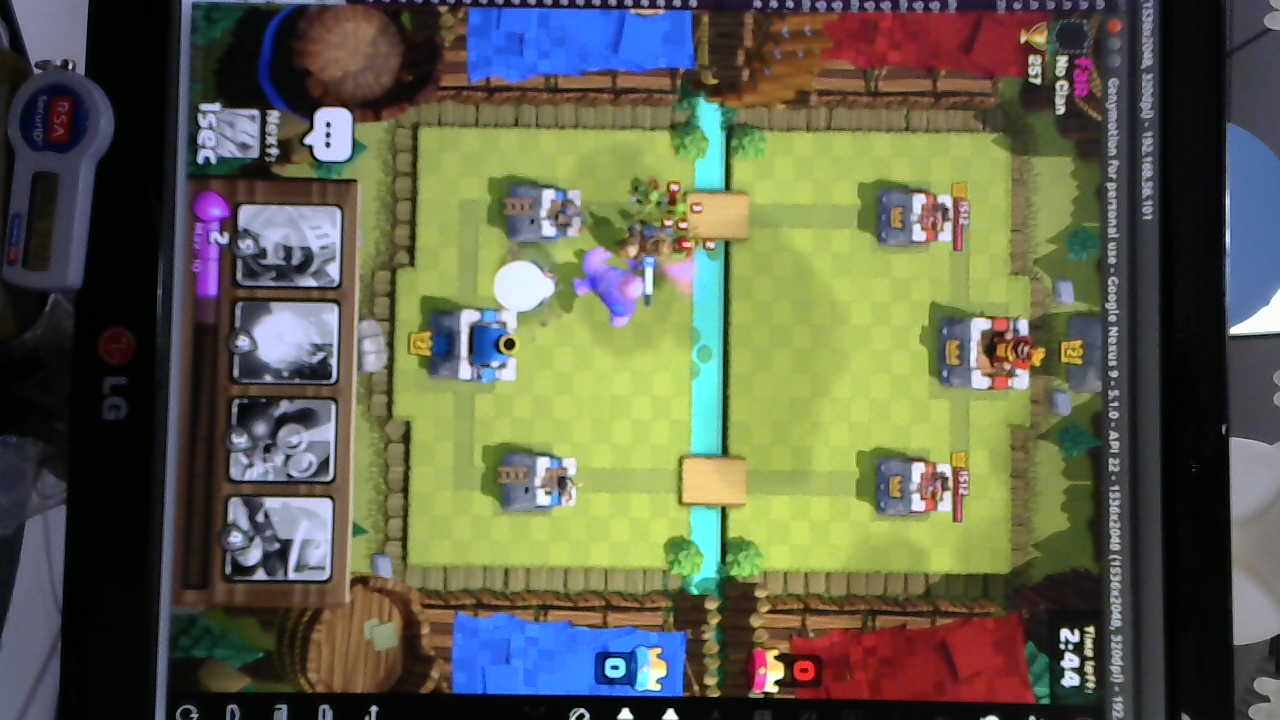arena: (494, 448, 581, 515), (513, 181, 590, 243)
earena: (874, 184, 957, 251), (879, 454, 955, 516)
eking: (935, 308, 1042, 393)
giant: (584, 235, 645, 319)
king: (433, 303, 521, 385)
prince: (606, 228, 677, 263)
speargoblins: (629, 176, 708, 233)
